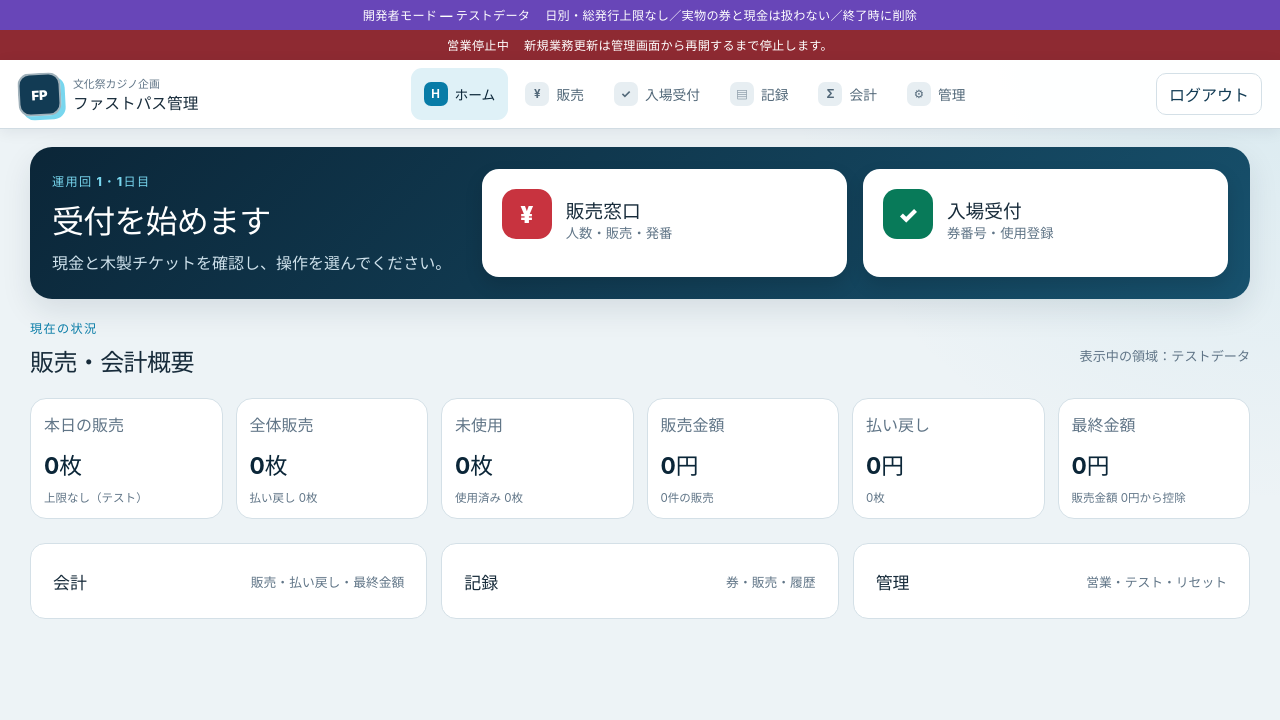
営業停止中の操作画面 › 販売と入場の操作を隠し、管理画面から再開すると復帰する
The image size is (1280, 720).
expect the heading "受付を始めます" is shown: met, box x1=52 y1=202 x2=270 y2=241
expect the button "ログアウト" is shown: met, box x1=1156 y1=73 x2=1262 y2=115
Click the button "¥ 販売" at (555,94), box x1=512 y1=68 x2=597 y2=120
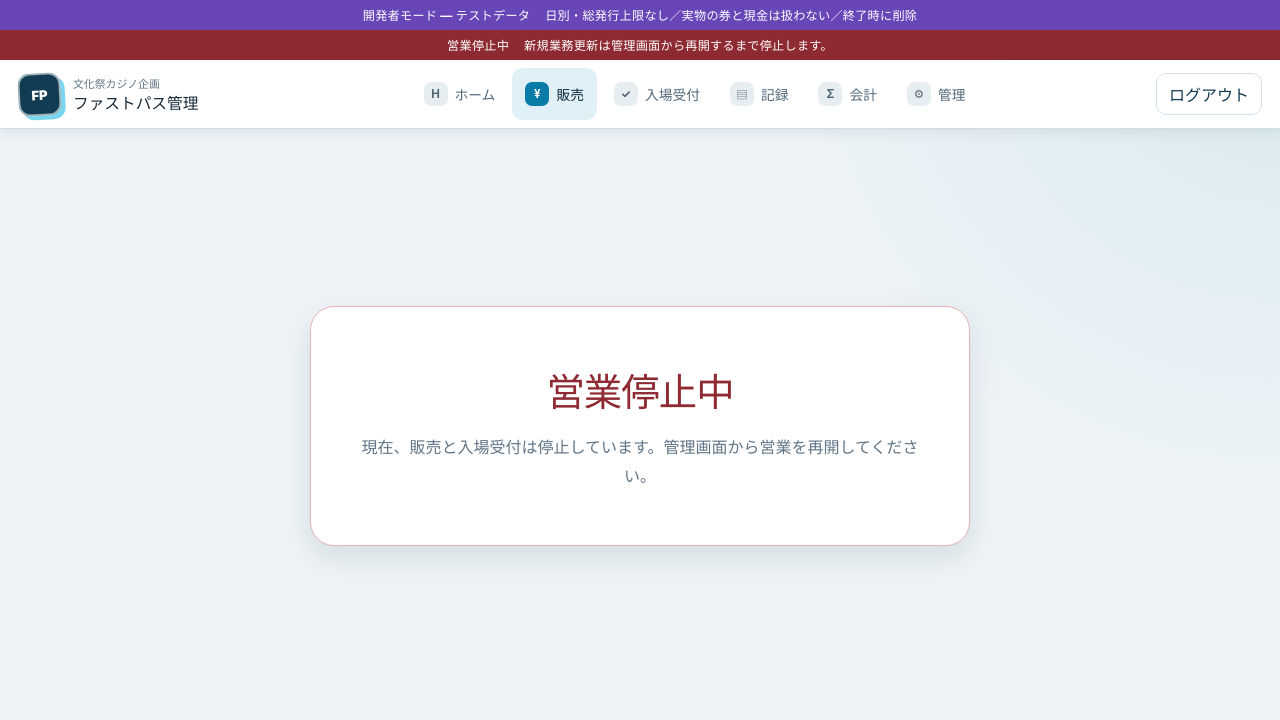
expect the text "人数を入力" is not shown: met
expect the heading "営業停止中" is shown: met, box x1=546 y1=369 x2=734 y2=415
Click the button "✓ 入場受付" at (657,94), box x1=601 y1=68 x2=713 y2=120
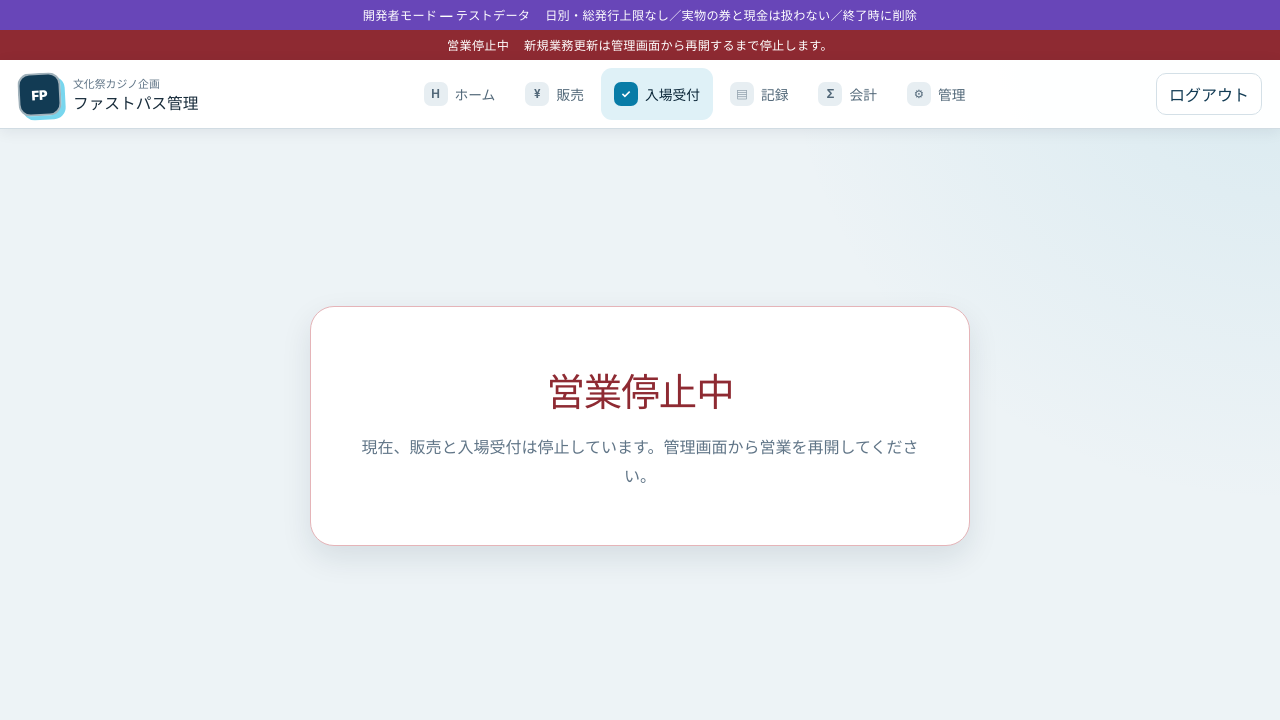
expect the heading "営業停止中" is shown: met, box x1=546 y1=369 x2=734 y2=415
Click the button "⚙ 管理" at (936,94), box x1=894 y1=68 x2=978 y2=120
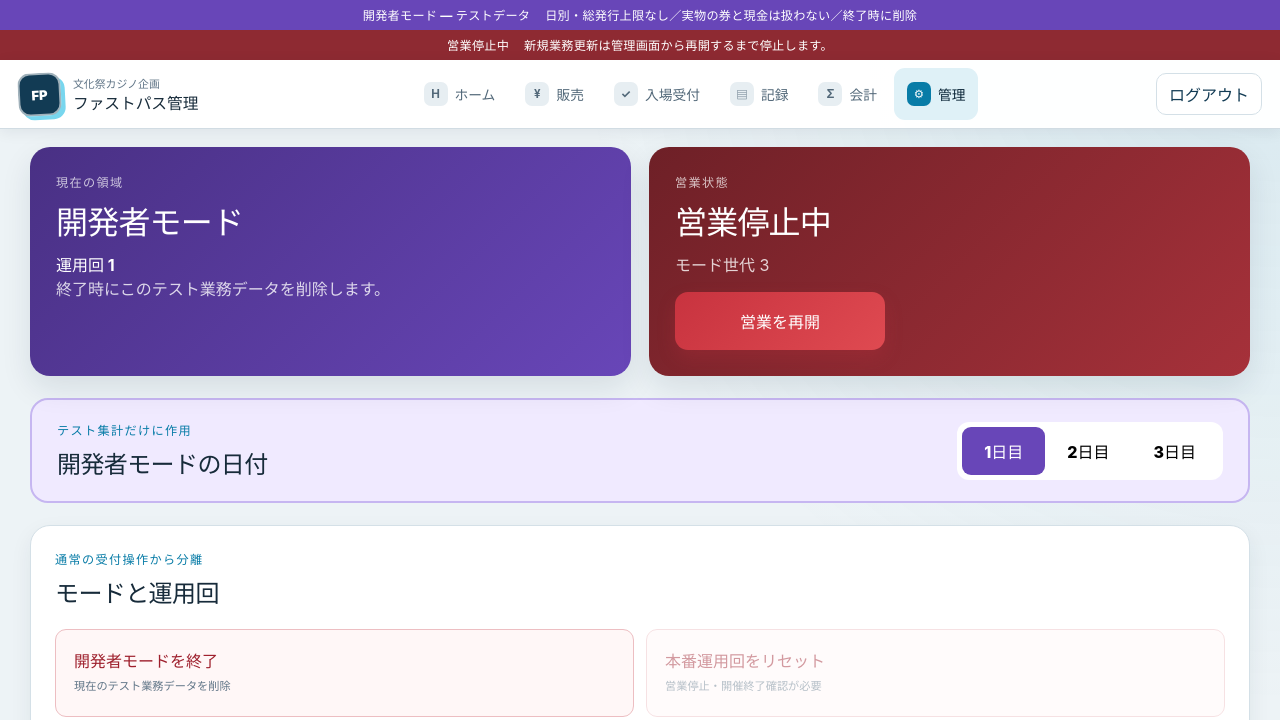
Click the button "営業を再開" at (780,321), box x1=675 y1=292 x2=885 y2=350
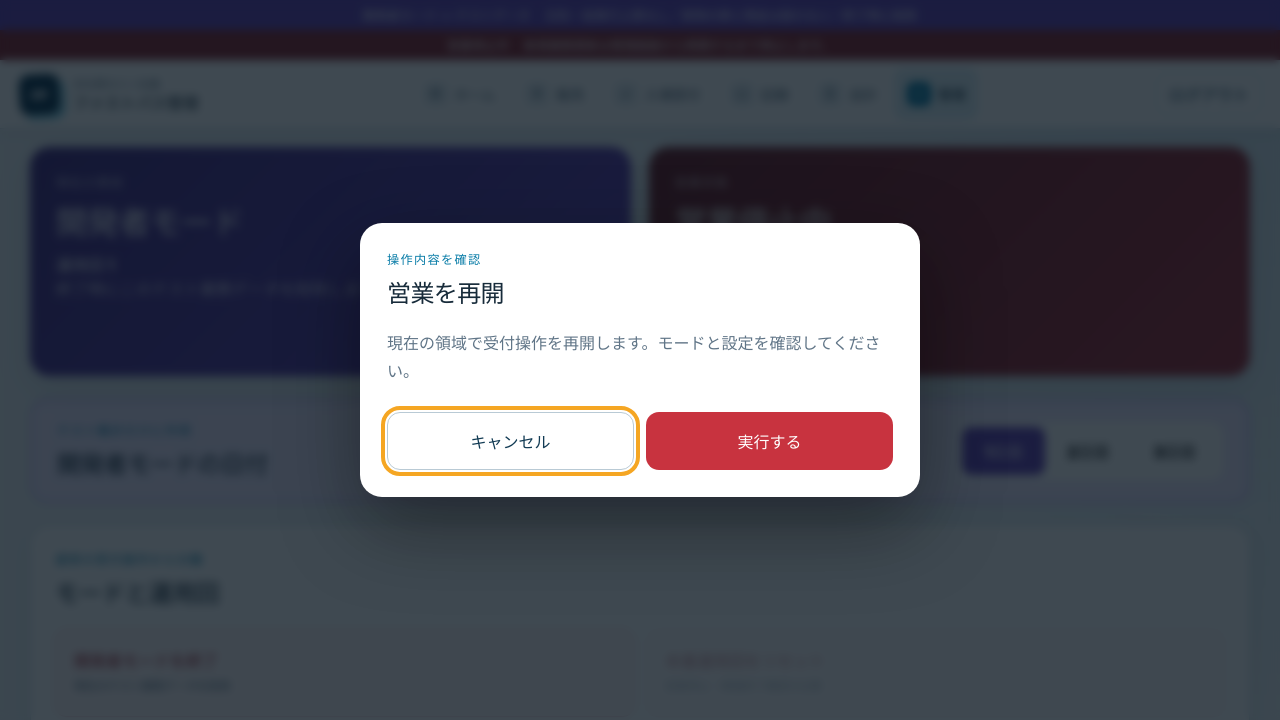
Click the button "実行する" at (770,441), box x1=646 y1=412 x2=893 y2=470
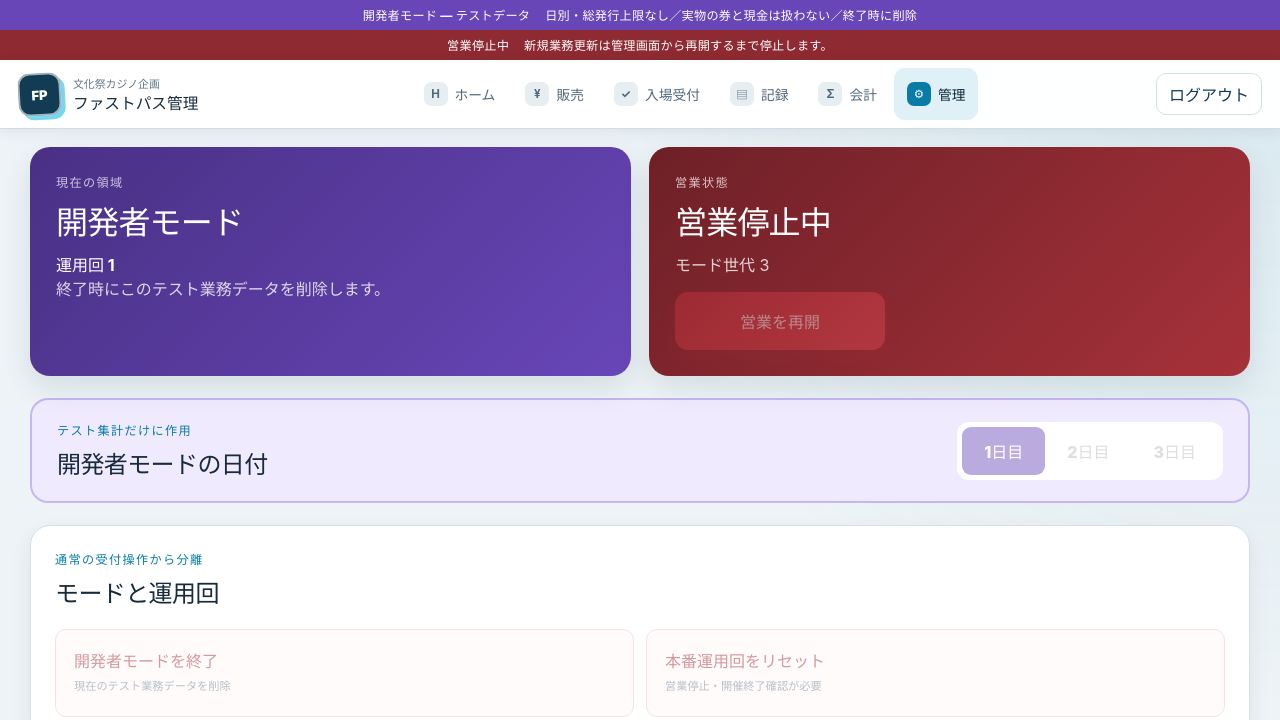
Click the button "¥ 販売" at (555,94), box x1=512 y1=68 x2=597 y2=120
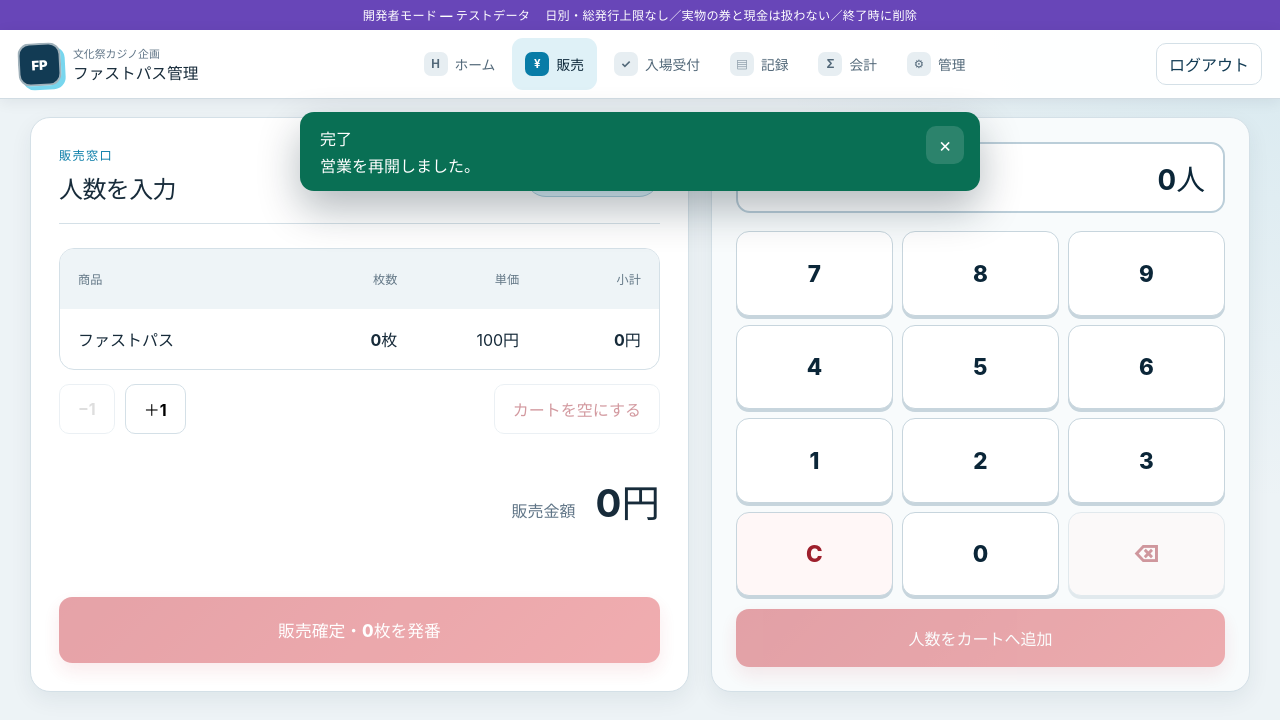
expect the heading "人数を入力" is shown: met, box x1=59 y1=170 x2=176 y2=205
expect the button "人数をカートへ追加" is disabled: met, box x1=736 y1=609 x2=1225 y2=667
